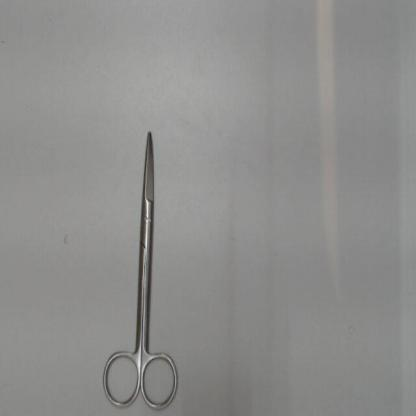Curved Mayo Scissors: (101, 124, 187, 414)
